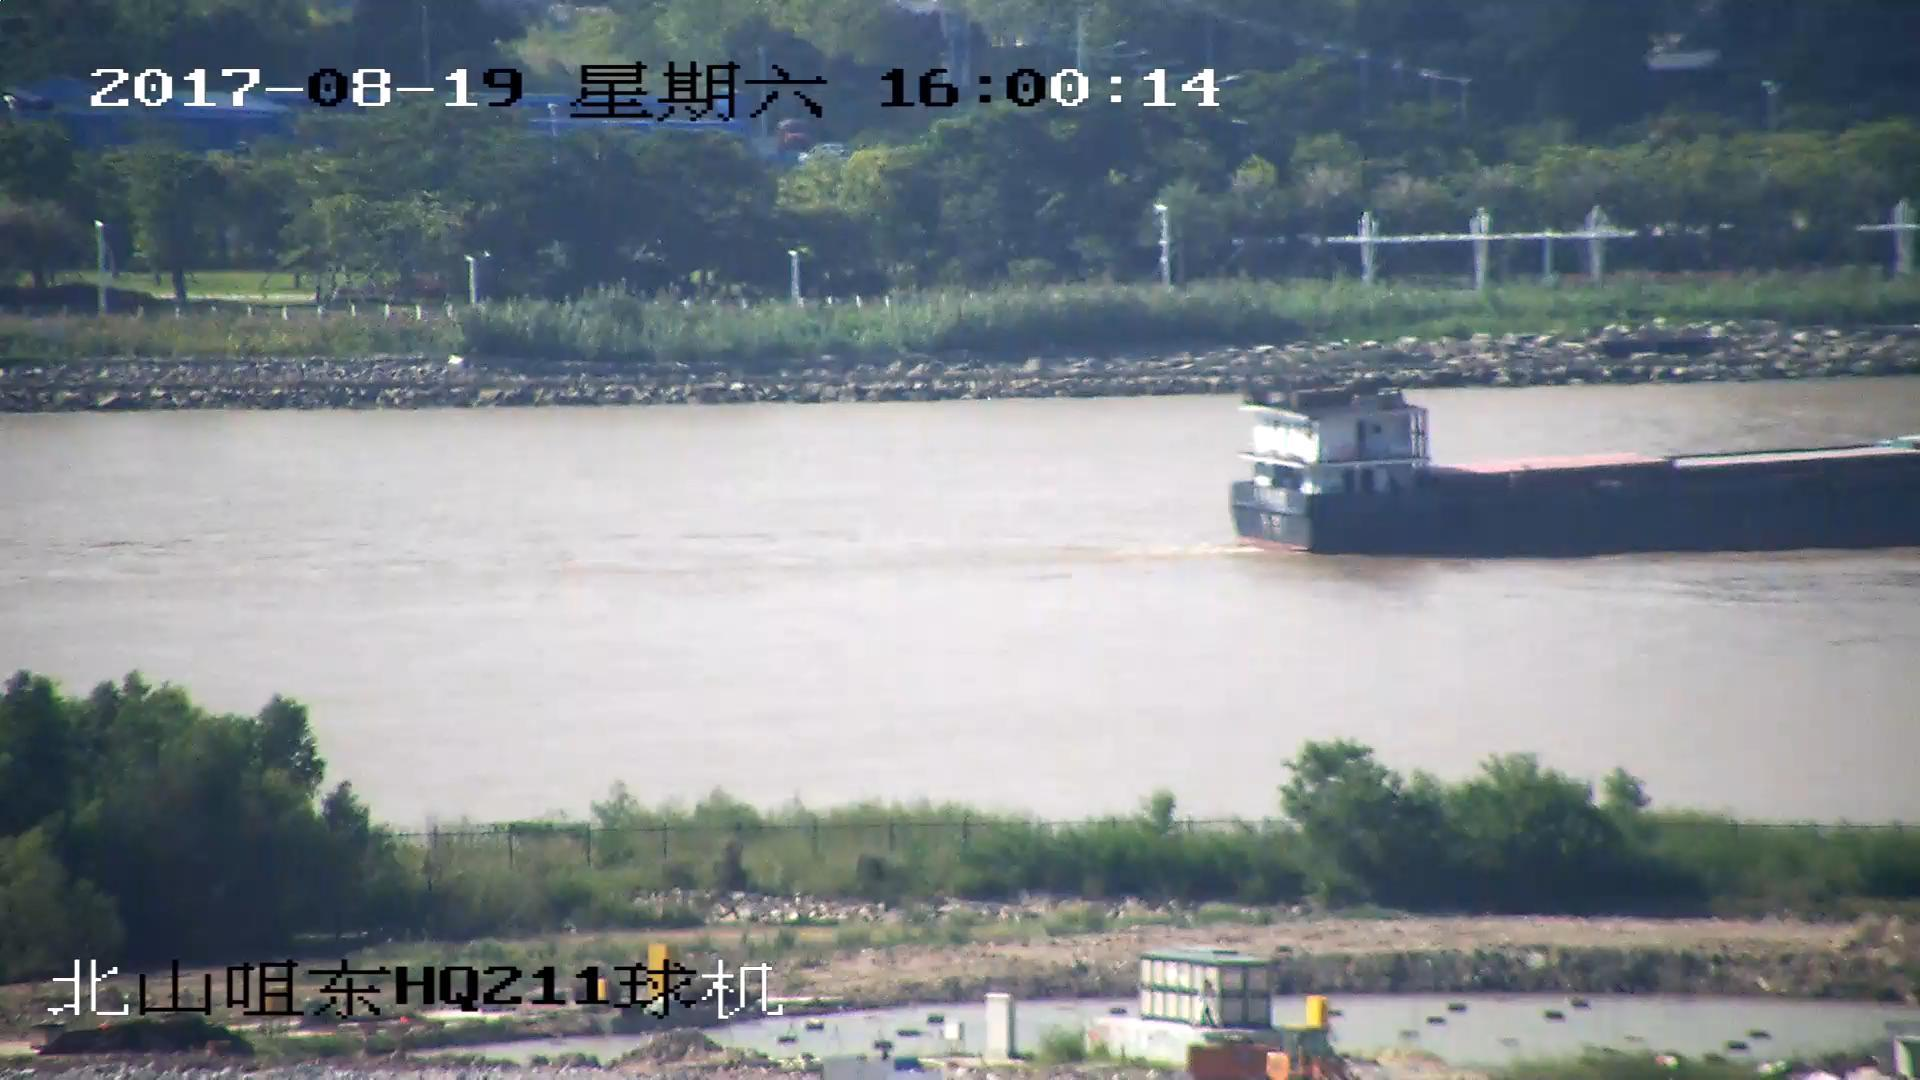Ship: (1226, 382, 1920, 556)
